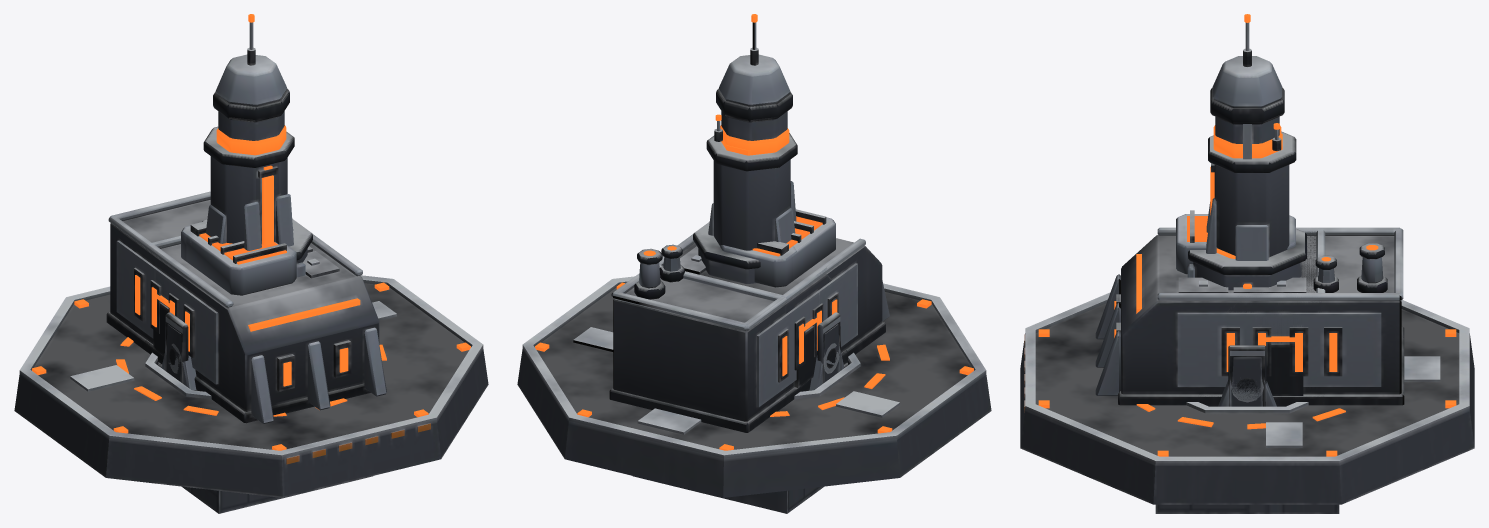
The model's file is facility-kit-v4-taller.glb.
3 renders of one model, left to right at view 1: azimuth 30°, elevation 25°; view 2: azimuth 150°, elevation 25°; view 3: azimuth 270°, elevation 25°, orthographic. The views are drawn at different scales.
Visible parts, largest first — view 1: fk_vesper_pad, fk_vesper_hall_l, fk_vesper_reactor, fk_vesper_tower, fk_vesper_hall_s, fk_vesper_wall, fk_vesper_apron, fk_vesper_exchanger_l; view 2: fk_vesper_pad, fk_vesper_hall_l, fk_vesper_reactor, fk_vesper_tower, fk_vesper_hall_s, fk_vesper_exchanger_l, fk_vesper_wall, fk_vesper_apron; view 3: fk_vesper_pad, fk_vesper_hall_l, fk_vesper_reactor, fk_vesper_tower, fk_vesper_hall_s, fk_vesper_exchanger_l, fk_vesper_wall, fk_vesper_apron, fk_vesper_pipe.
Boxes of the visible parts, x1,y1,x2,y2 form: fk_vesper_pad: (14,275,488,497); fk_vesper_hall_l: (106,191,386,423); fk_vesper_reactor: (203,126,294,250); fk_vesper_tower: (213,14,289,177); fk_vesper_hall_s: (145,221,323,391); fk_vesper_wall: (161,312,196,390); fk_vesper_apron: (182,476,372,513); fk_vesper_exchanger_l: (202,219,312,277); fk_vesper_pad: (517,276,991,497); fk_vesper_hall_l: (609,209,889,432); fk_vesper_reactor: (706,114,797,250); fk_vesper_tower: (716,14,792,154); fk_vesper_hall_s: (659,234,847,404); fk_vesper_exchanger_l: (693,222,760,283); fk_vesper_wall: (809,312,844,390); fk_vesper_apron: (633,476,823,513); fk_vesper_pad: (1020,292,1474,504); fk_vesper_hall_l: (1095,210,1404,406); fk_vesper_reactor: (1206,123,1296,260); fk_vesper_tower: (1210,14,1284,159); fk_vesper_hall_s: (1198,215,1325,406); fk_vesper_exchanger_l: (1187,228,1306,290); fk_vesper_wall: (1218,345,1276,406); fk_vesper_apron: (1155,504,1339,513); fk_vesper_pipe: (1231,377,1263,402).
Size of the model in its own units: 4.95 by 5.53 by 4.95.
2 materials, 1 textured.
